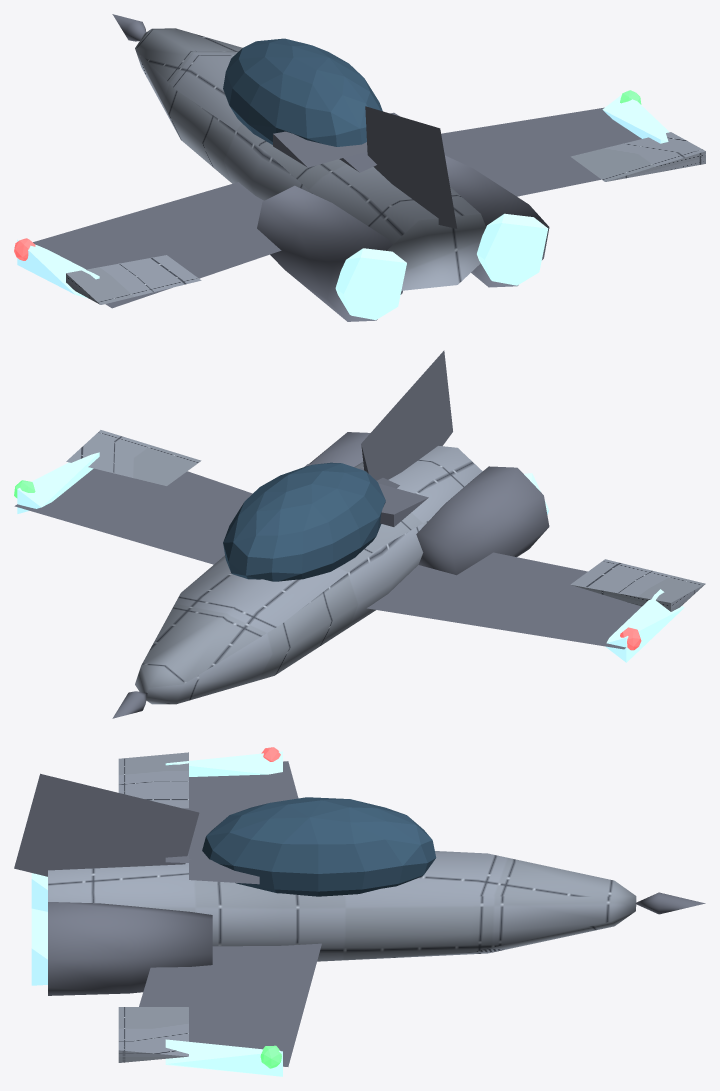
Rendered from kestrel_lod1.glb.
3 views of the same model, one above another, from view 1: azimuth 30°, elevation 25°; view 2: azimuth 150°, elevation 25°; view 3: azimuth 270°, elevation 25° (orthographic).
Parts seen in each view (by area): view 1: Wings, Fuselage, Canopy, EnginePod, TailFin, EngineGlow.001, EngineGlow, EnginePod.001, CanopyFrame, NoseSpike; view 2: Wings, Fuselage, Canopy, EnginePod, TailFin, CanopyFrame, EnginePod.001; view 3: Fuselage, Wings, Canopy, TailFin, EnginePod.001, CanopyFrame, EngineGlow.001, NoseSpike, EngineGlow.
Boxes of the visible parts, x1,y1,x2,y2 form: Wings: [17, 91, 705, 308]; Fuselage: [135, 28, 485, 290]; Canopy: [223, 38, 382, 146]; EnginePod: [257, 185, 402, 321]; TailFin: [365, 106, 457, 228]; EngineGlow.001: [477, 213, 548, 285]; EngineGlow: [335, 248, 406, 319]; EnginePod.001: [445, 155, 549, 287]; CanopyFrame: [273, 112, 399, 167]; NoseSpike: [112, 14, 146, 41]; Wings: [14, 430, 705, 662]; Fuselage: [135, 446, 482, 704]; Canopy: [223, 462, 385, 581]; EnginePod: [416, 466, 549, 575]; TailFin: [361, 350, 452, 480]; CanopyFrame: [304, 464, 428, 526]; EnginePod.001: [309, 432, 370, 466]; Fuselage: [48, 851, 636, 961]; Wings: [118, 751, 321, 1076]; Canopy: [202, 797, 436, 896]; TailFin: [14, 773, 199, 876]; EnginePod.001: [48, 902, 212, 995]; CanopyFrame: [189, 820, 259, 884]; EngineGlow.001: [31, 908, 47, 985]; NoseSpike: [635, 892, 705, 914]; EngineGlow: [31, 873, 47, 911].
Size of the model in its own units: 3.1 by 0.8554 by 2.94.
7 materials, 1 textured.
